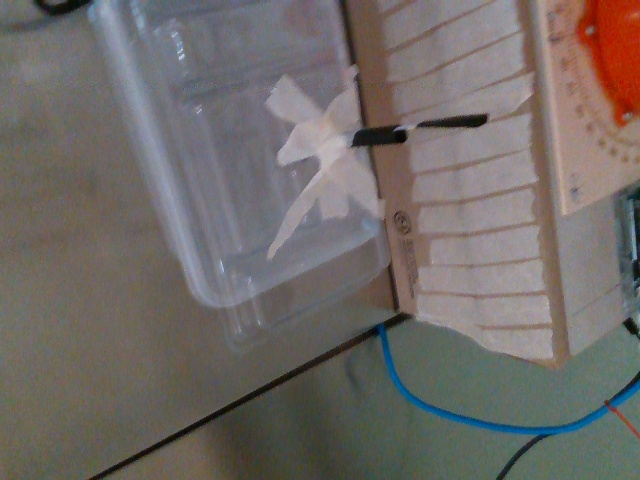test_strip: (392, 112, 489, 130)
